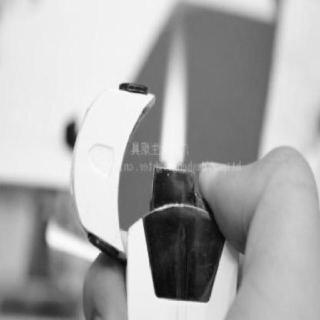Fire: (150, 27, 200, 177)
